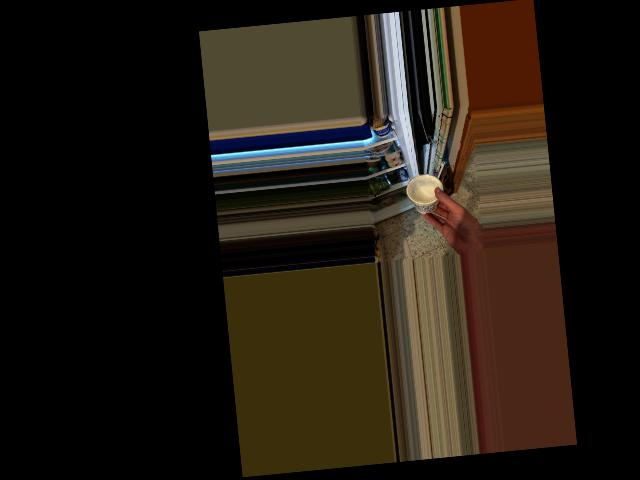cotage: (410, 169, 440, 216)
